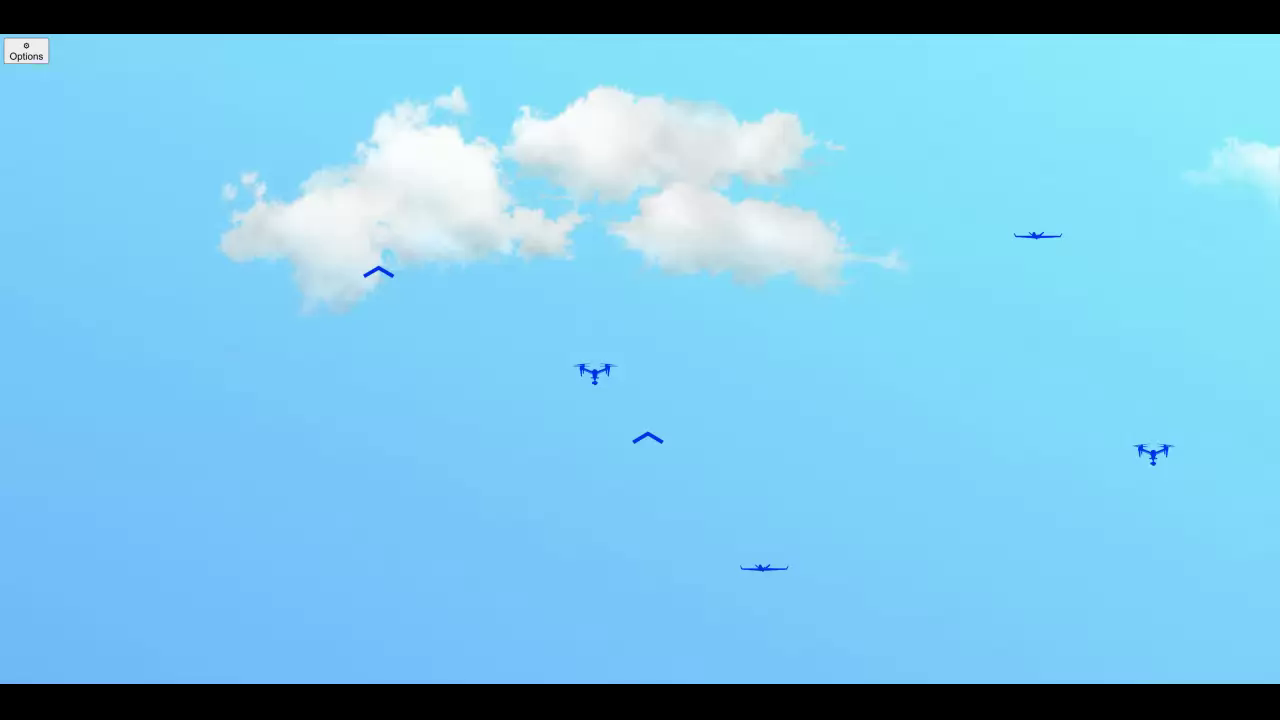Bird: (612, 416, 678, 450), (359, 251, 402, 289)
Drone: (1002, 216, 1073, 255), (727, 554, 796, 586)
Quadcopter: (559, 344, 628, 392), (1119, 434, 1179, 473)
